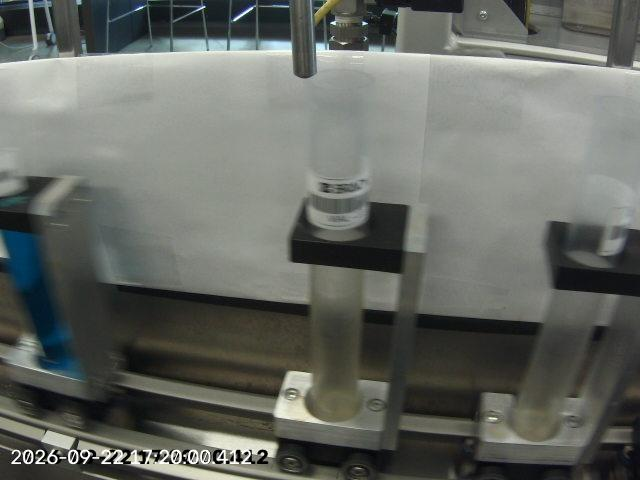vial: (507, 92, 640, 441), (306, 68, 378, 419)
